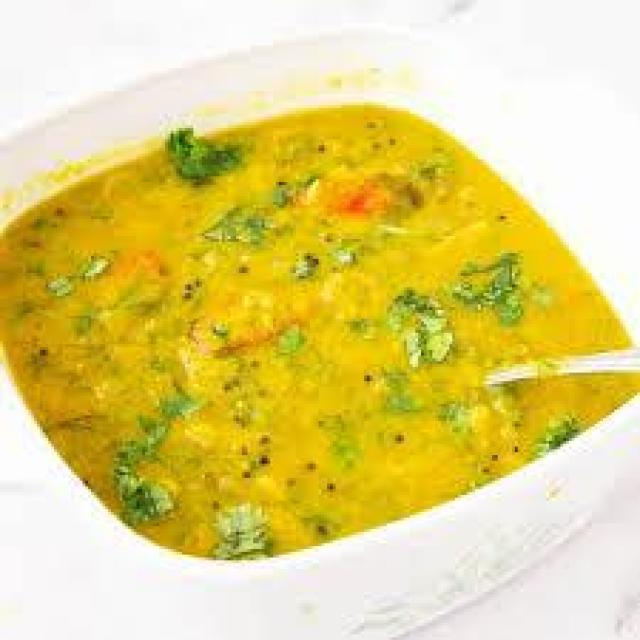dal: (4, 107, 640, 558)
